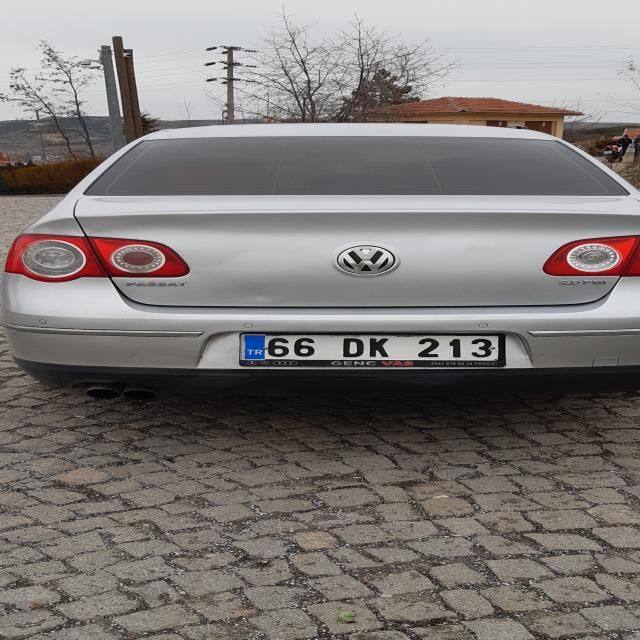plate: (238, 333, 502, 361)
